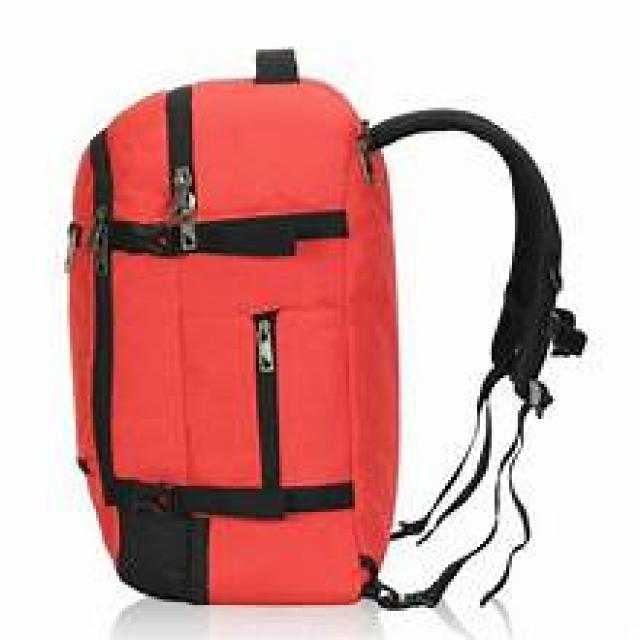backpack: (62, 48, 586, 609)
